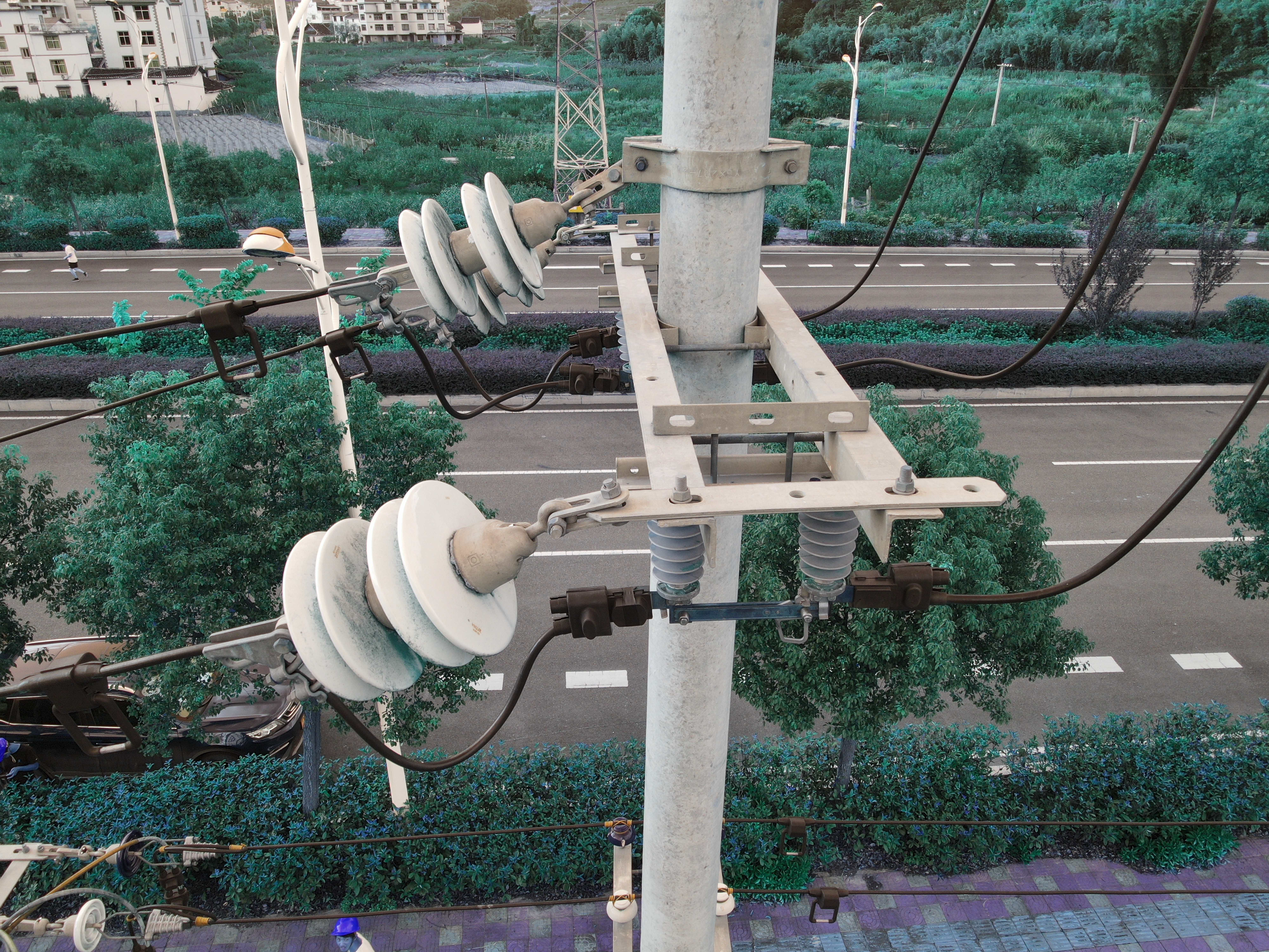severe_soiling_no_discharge_whole: (277, 479, 541, 704), (395, 166, 569, 323), (452, 235, 559, 338)
